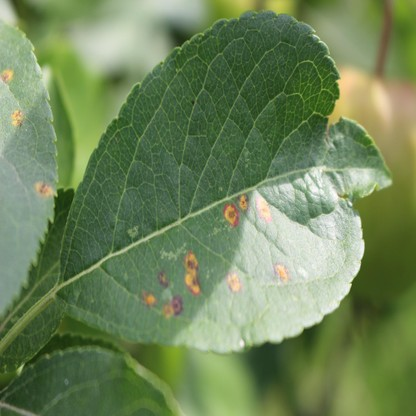rust: (183, 250, 200, 295), (254, 194, 273, 222), (162, 295, 182, 317), (273, 262, 291, 282), (225, 272, 242, 293), (224, 204, 239, 227), (34, 179, 54, 195), (139, 288, 155, 307), (11, 109, 23, 128), (0, 68, 13, 81), (236, 195, 248, 209), (158, 271, 167, 286)
